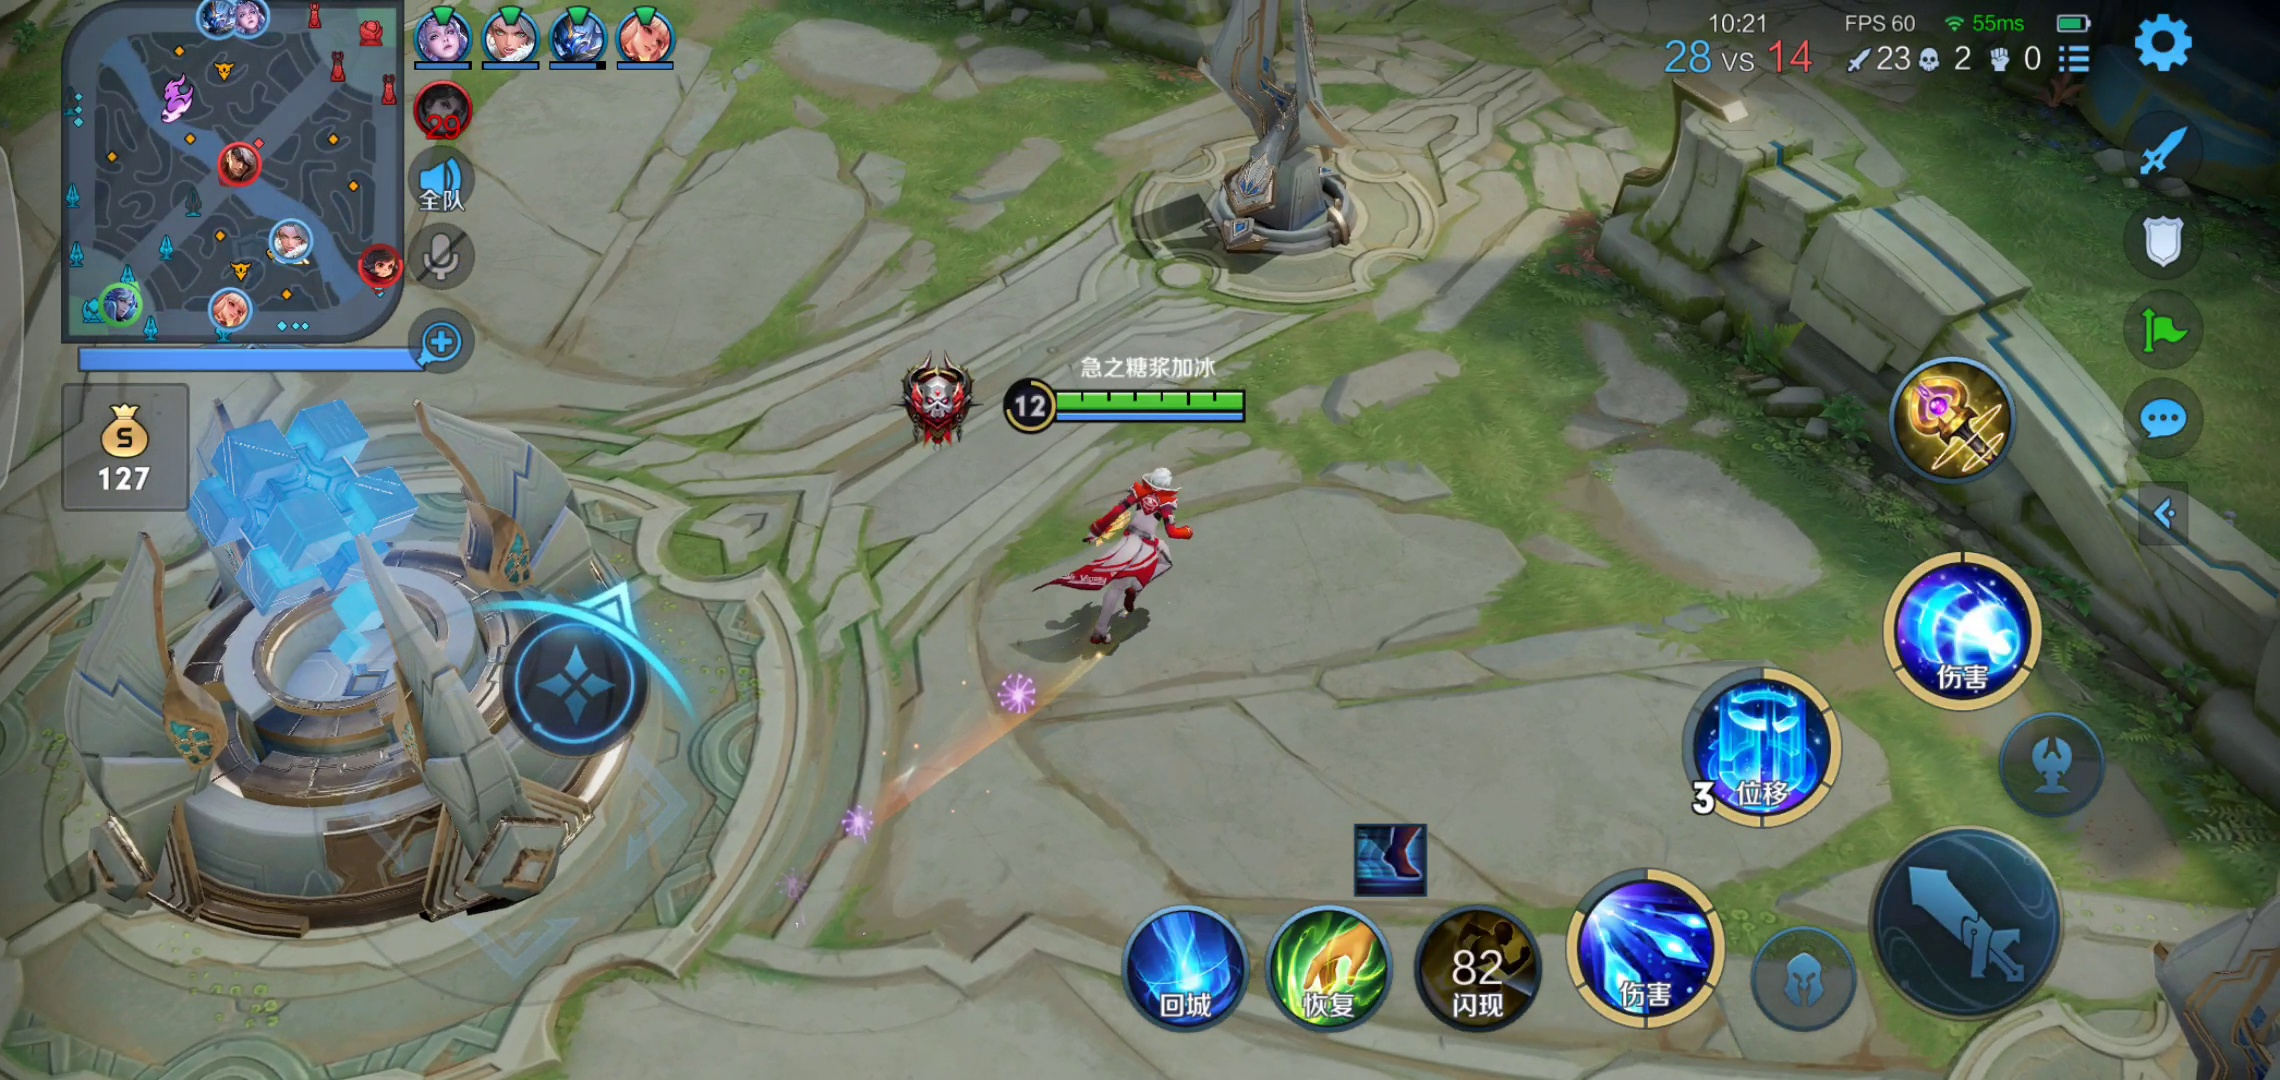crystal: (47, 420, 659, 938)
hero: (1043, 459, 1221, 624)
tower: (1139, 1, 1389, 262)
